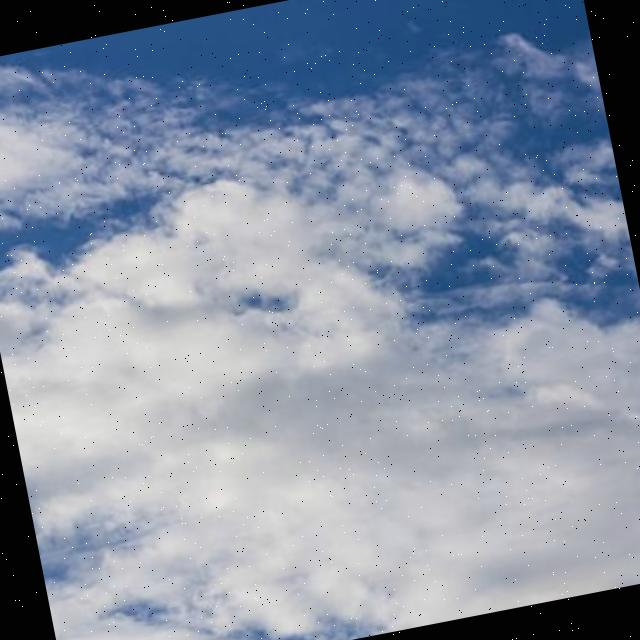As: (1, 1, 640, 635)
